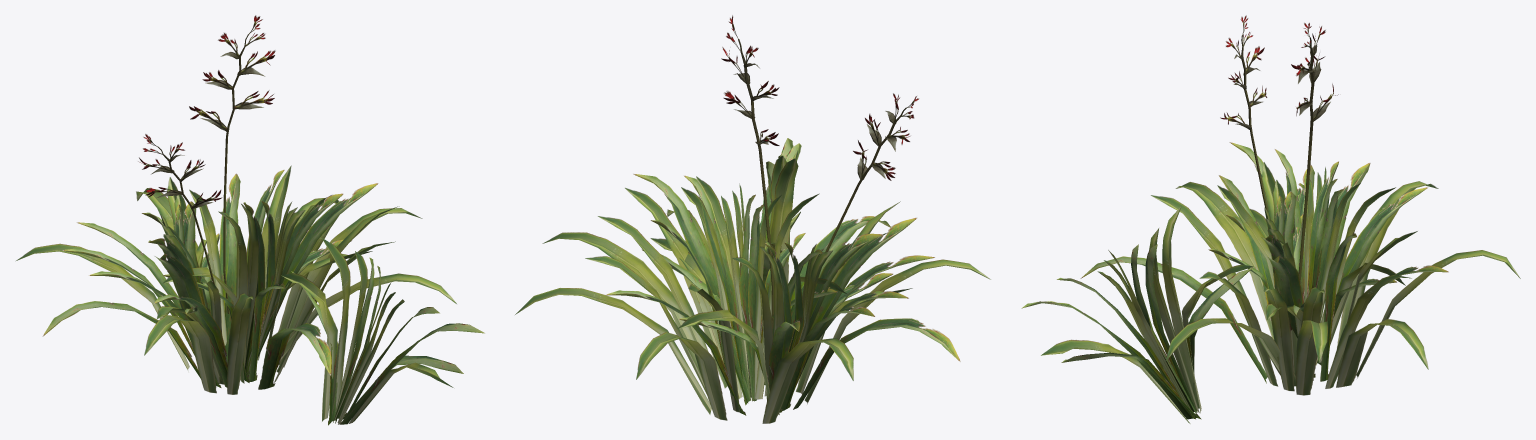
3 renders of one model, left to right at view 1: azimuth 30°, elevation 25°; view 2: azimuth 150°, elevation 25°; view 3: azimuth 270°, elevation 25°, orthographic. The views are drawn at different scales.
Parts seen in each view (by area): view 1: Object_3; view 2: Object_3; view 3: Object_3.
Boxes of the visible parts, bbox=[...] form: Object_3: bbox=[16, 15, 484, 425]; Object_3: bbox=[515, 15, 990, 423]; Object_3: bbox=[1021, 15, 1520, 423].
Bounding box in the file's own units: 2.72 × 2.52 × 2.98.
1 material, 1 textured.
